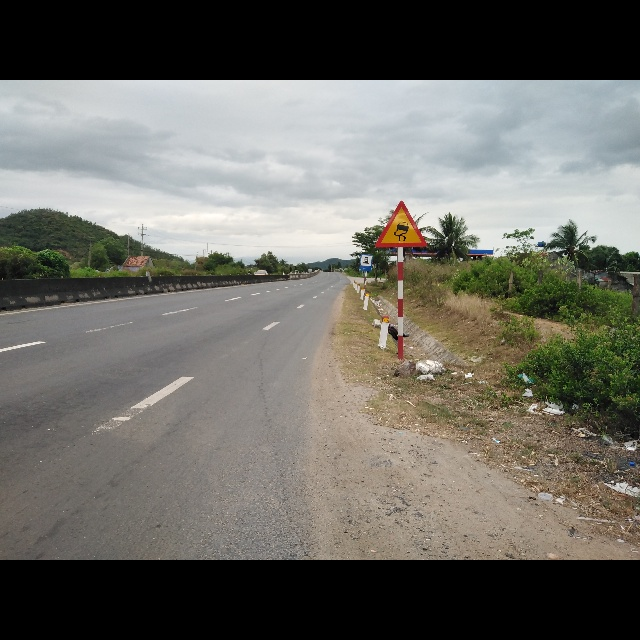Đường trơn trượt: (376, 198, 428, 248)
